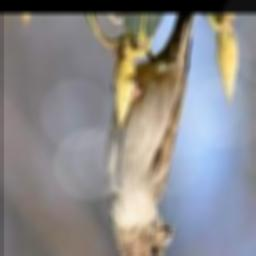Sparrow: (105, 14, 196, 256)
